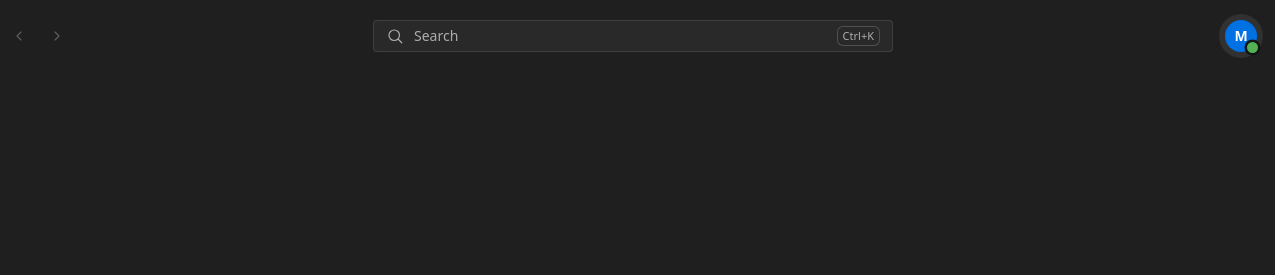
Test: drops a person from the people results as soon as either side blocks
Type "bert" into the field labelled "Search" at coordinates (620, 36), box [414,26,827,46]
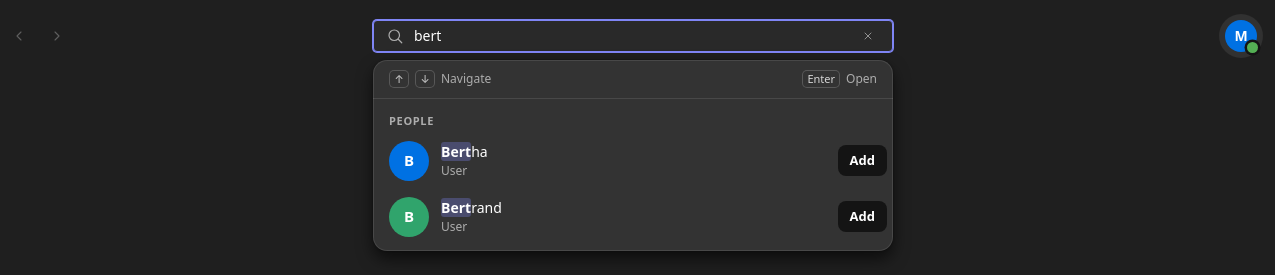
Expected: the text "ha" is shown, [471,142,488,161]
